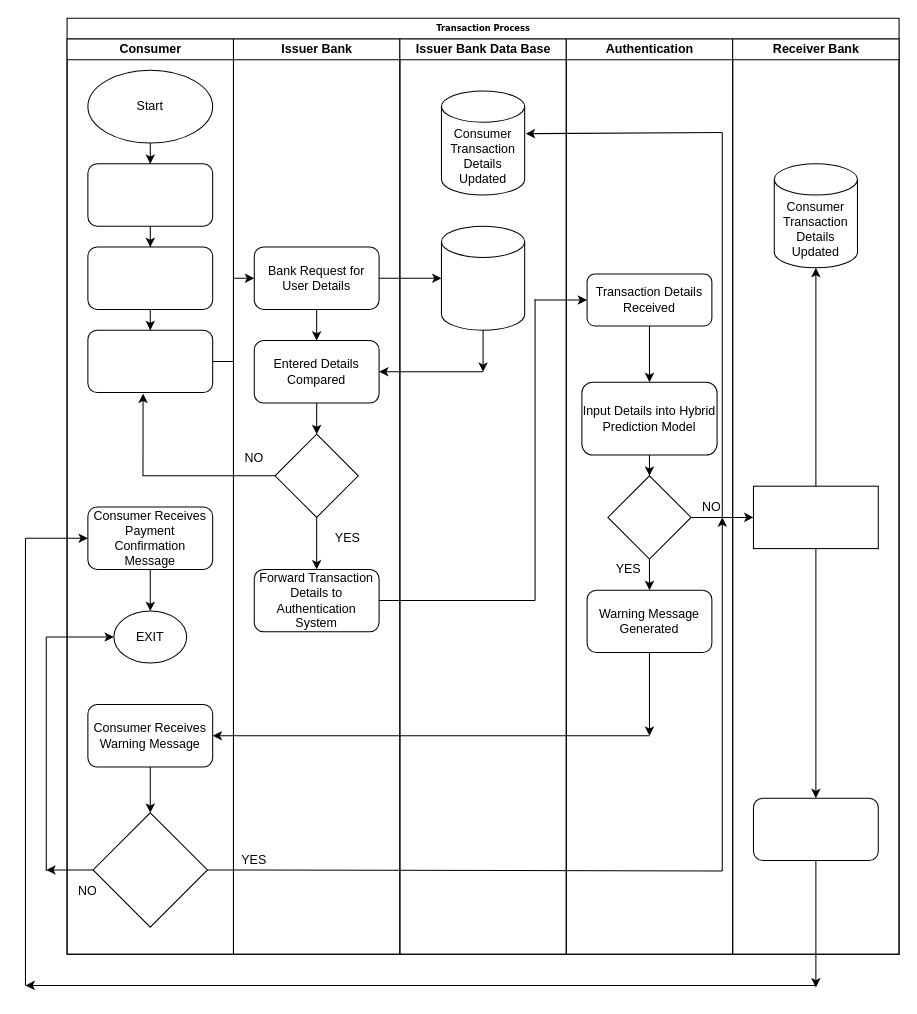
This 917x1014 diagram has some shape labels left out. Here are the shapes that lost their labels. From the top down, the centre of each, then its label:
At (x=150, y=194): "Consumer Places Order".
At (x=150, y=277): "Online Banking Payment Selected".
At (x=482, y=277): "Data Base Returns User Information".
At (x=150, y=361): "Consumer Enters Account Details".
At (x=316, y=475): "Details Validated".
At (x=649, y=517): "Fraud Detection".
At (x=815, y=517): "Money Transfer Completed".
At (x=815, y=829): "Confirmation Message Generated".
At (x=149, y=869): "Continue with Transaction?".
